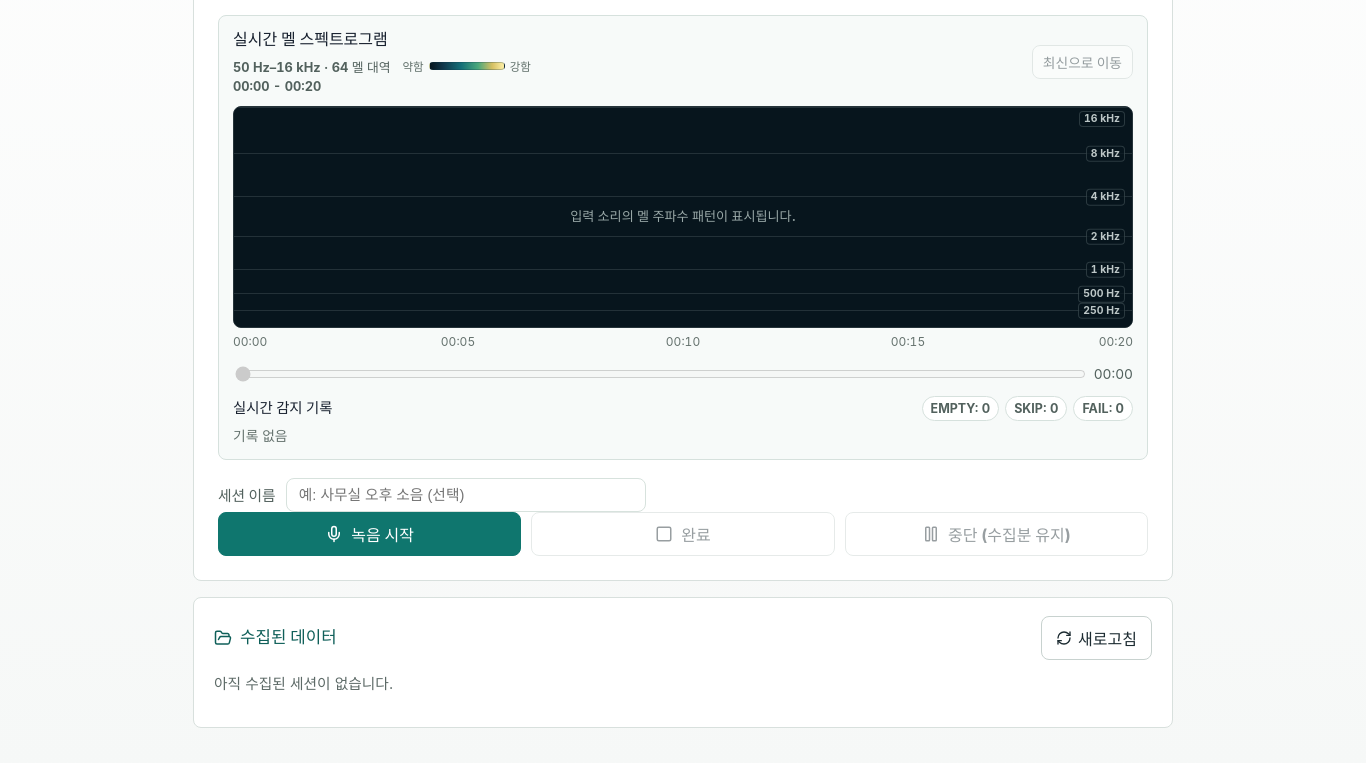
Test: App › drives the visible recording clock from captured audio time
(page scrolled)
Click the button "녹음 시작".
click(370, 534)  # box [218, 512, 521, 556]
(page scrolled)
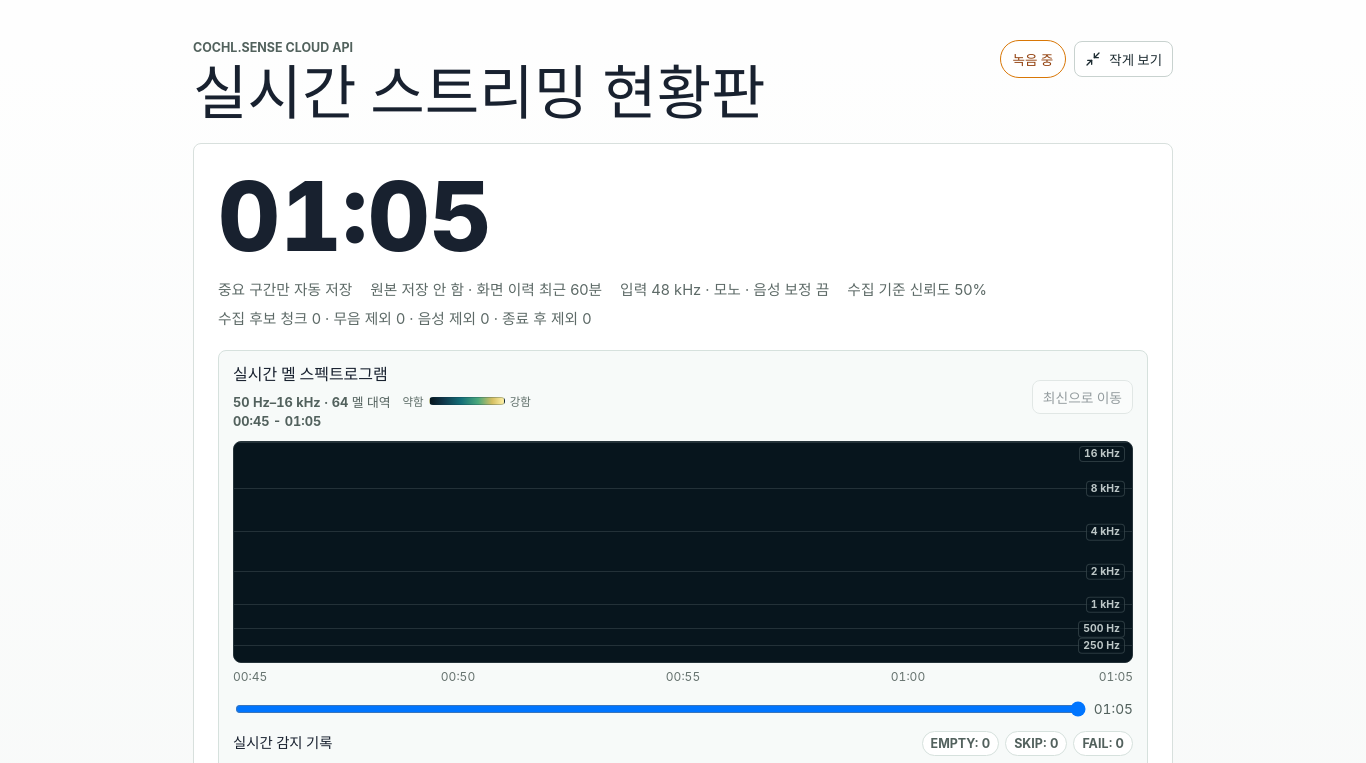
Check: the text "녹음 중" is shown, box [1000, 40, 1066, 78]
Check: the text with class "timer" reads "01:05", box [218, 158, 492, 274]
